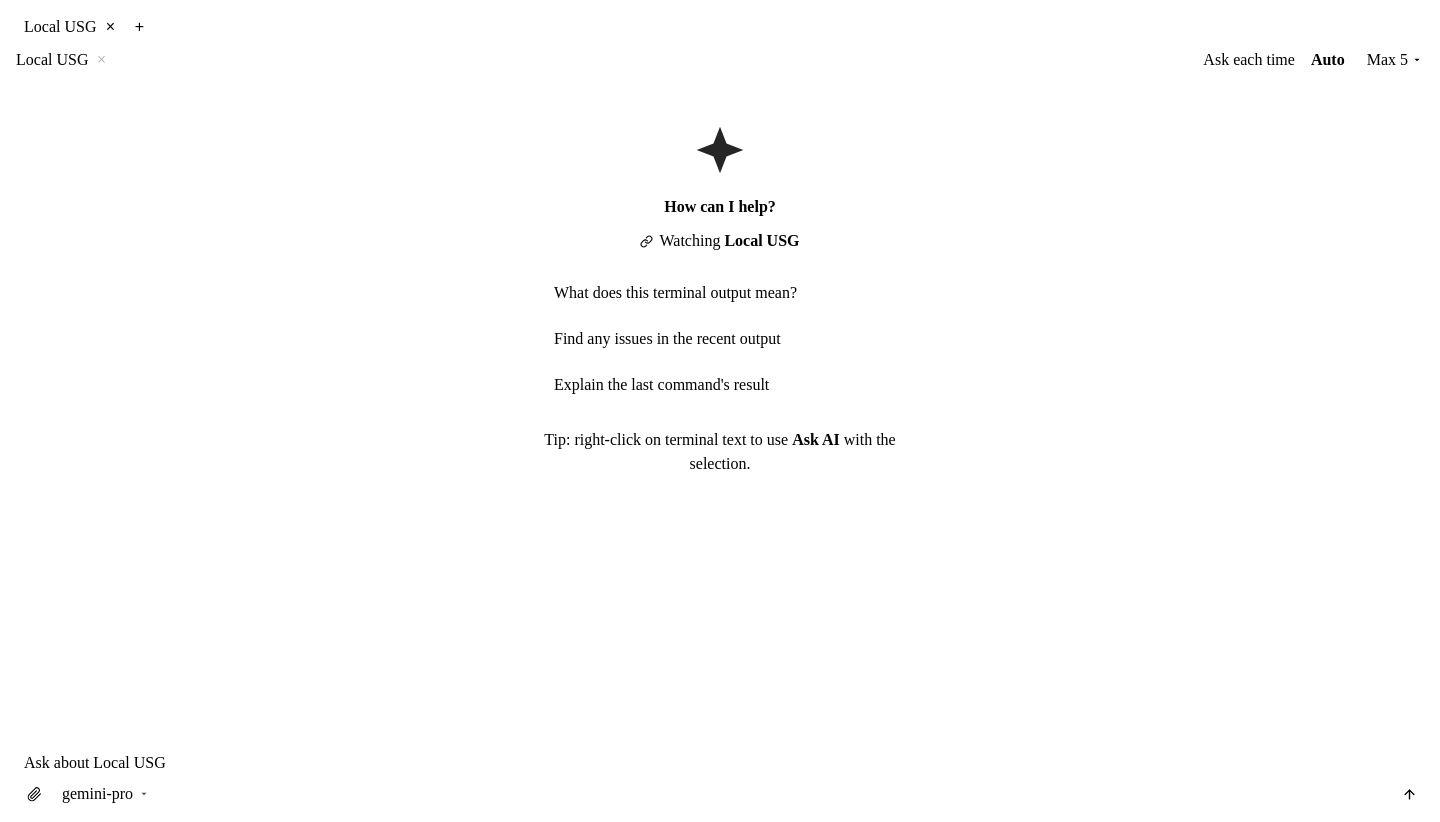
AIChatPane connect card — gate outcomes › renders the card inert when the policy is off — nothing sent, nothing opened
In the text box with placeholder "Ask about Local USG": (721, 762) [20, 748, 1422, 776], type "ping the gateway"
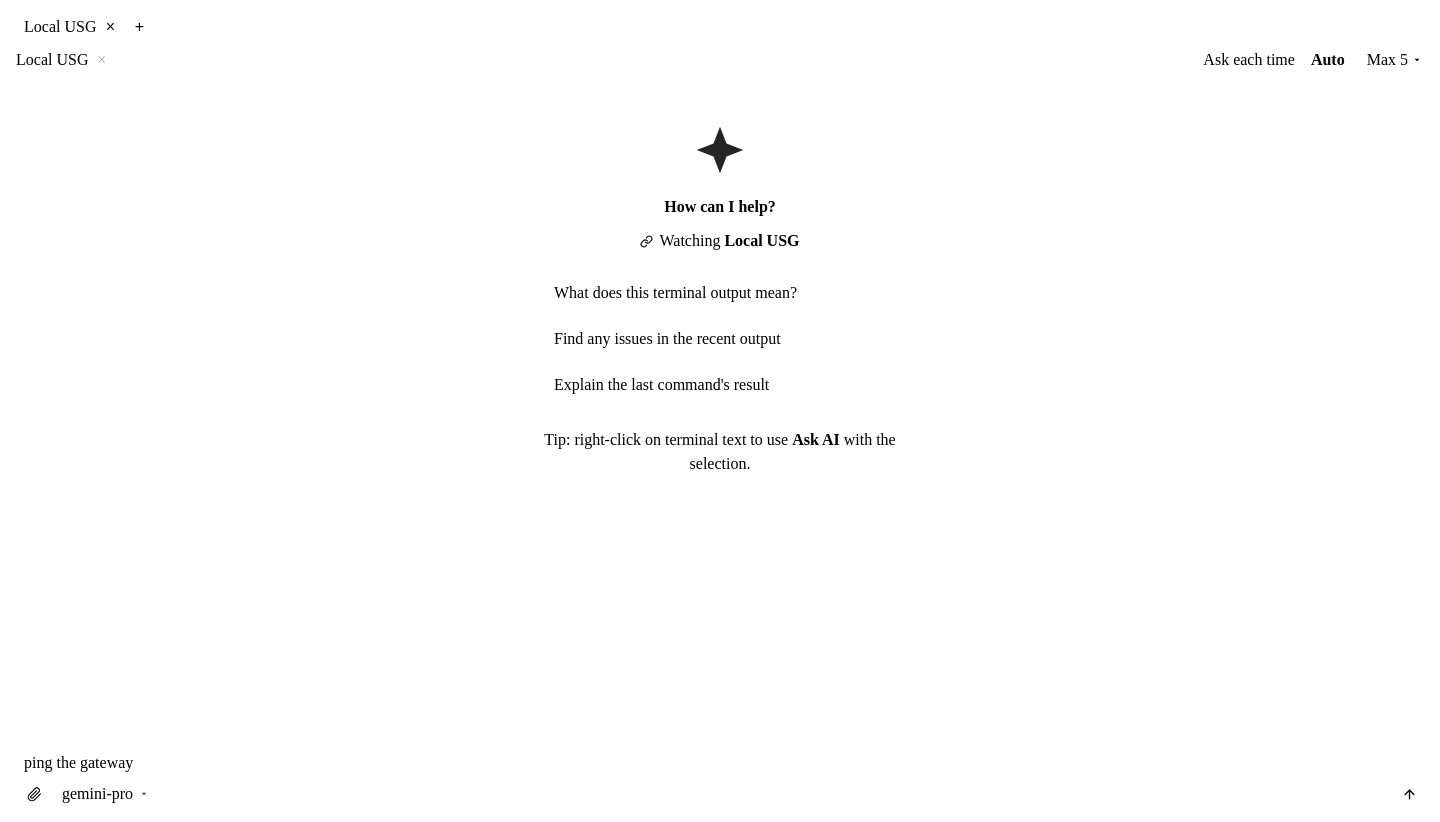
Press Enter in the text box with placeholder "Ask about Local USG", box [20, 748, 1422, 776]
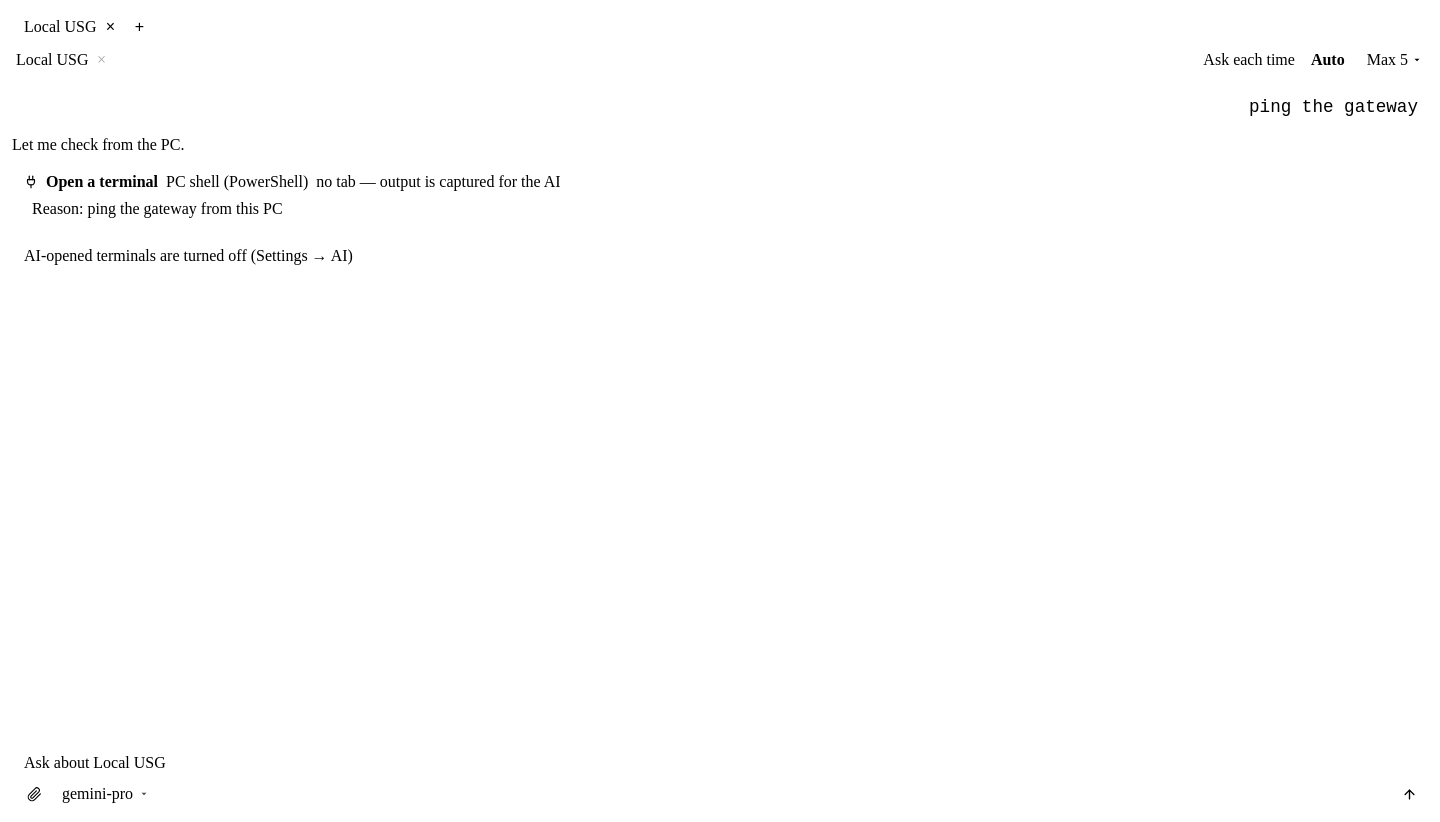
expect the text "AI-opened terminals are turned off (Settings → AI)" is shown: met, box [24, 247, 353, 264]
